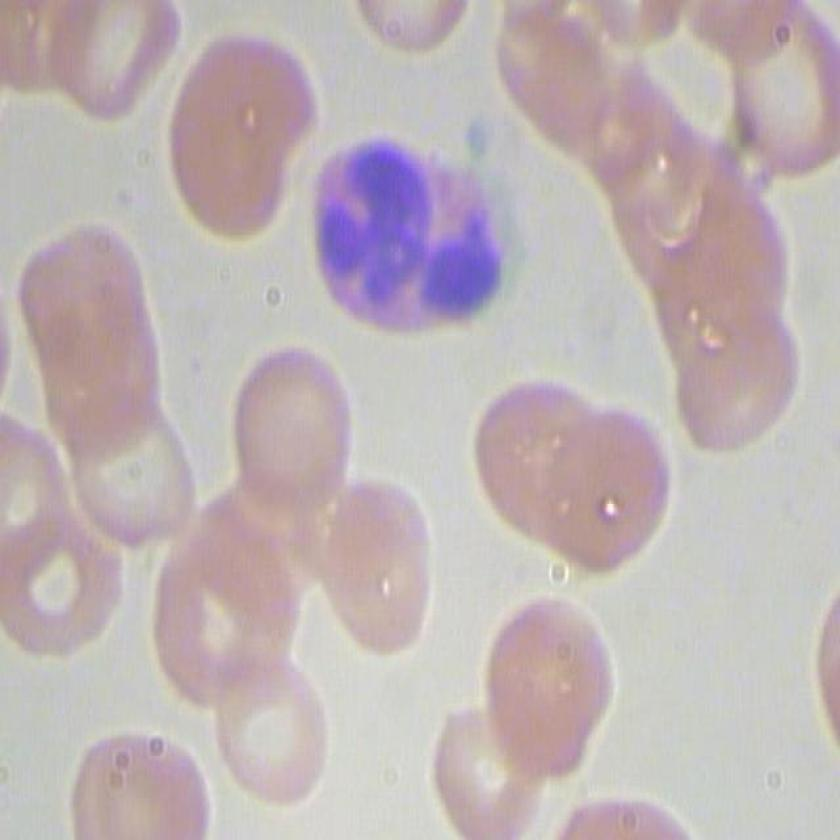eosinophil: (307, 123, 522, 337)
